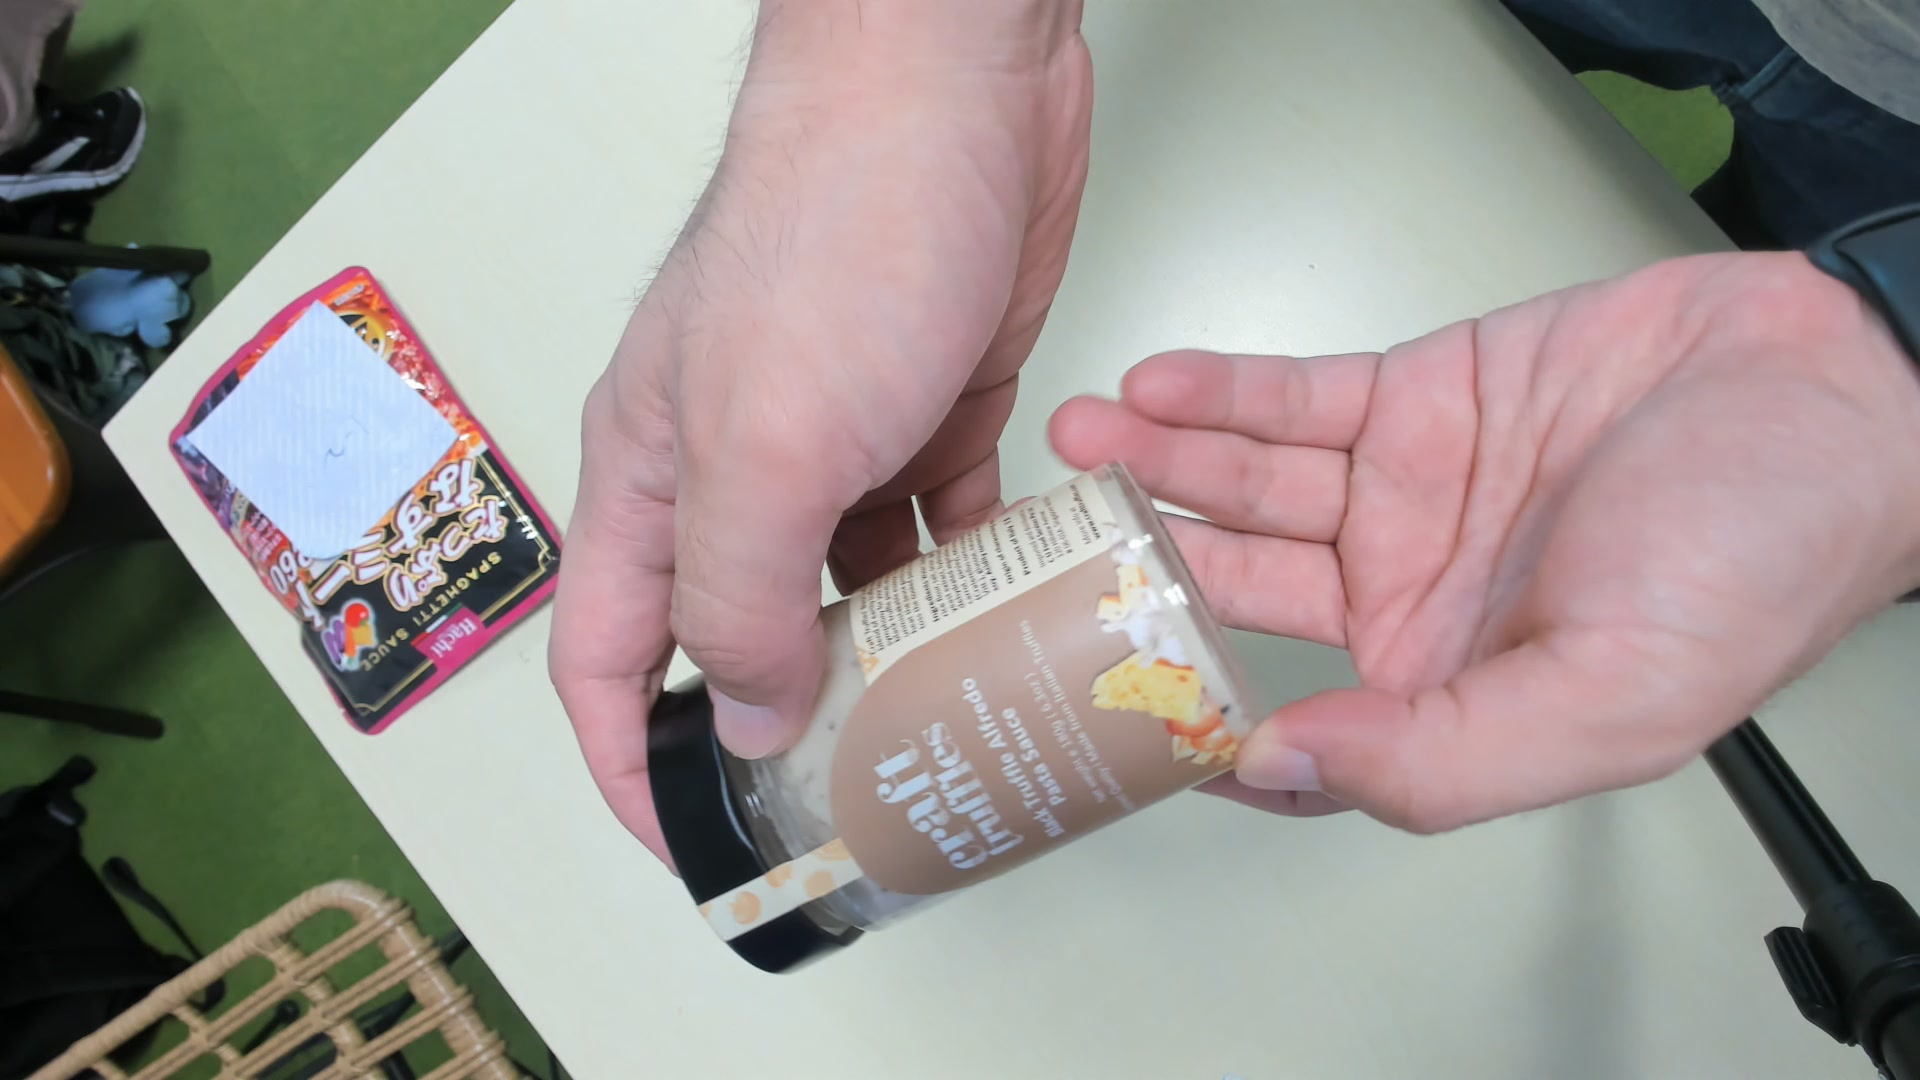PastaSauce_100-199g_Halal_NonHealthy: (649, 463, 1263, 968)
